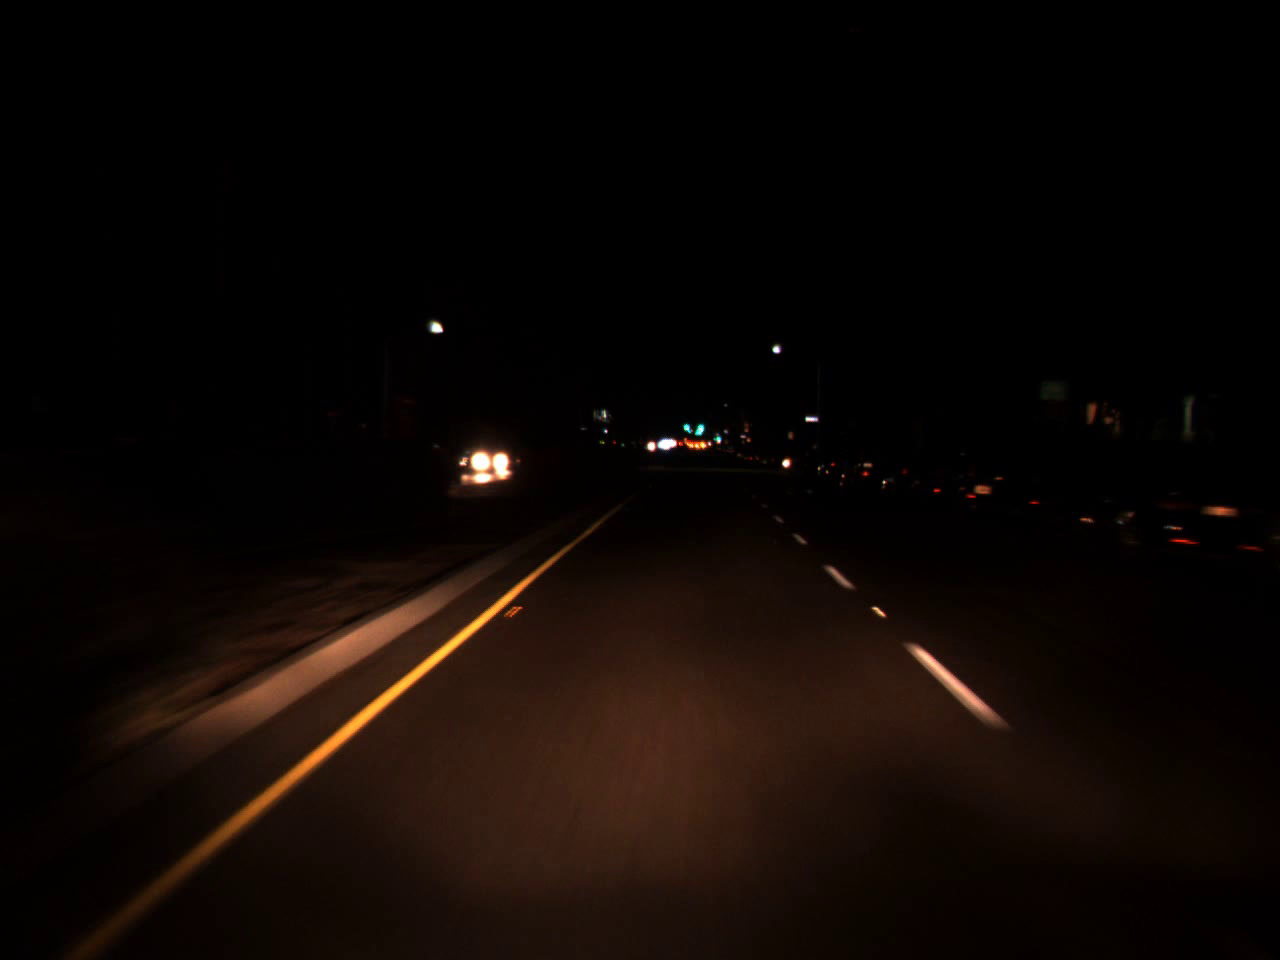go: (692, 411, 706, 438), (677, 413, 693, 434), (714, 430, 721, 442)
